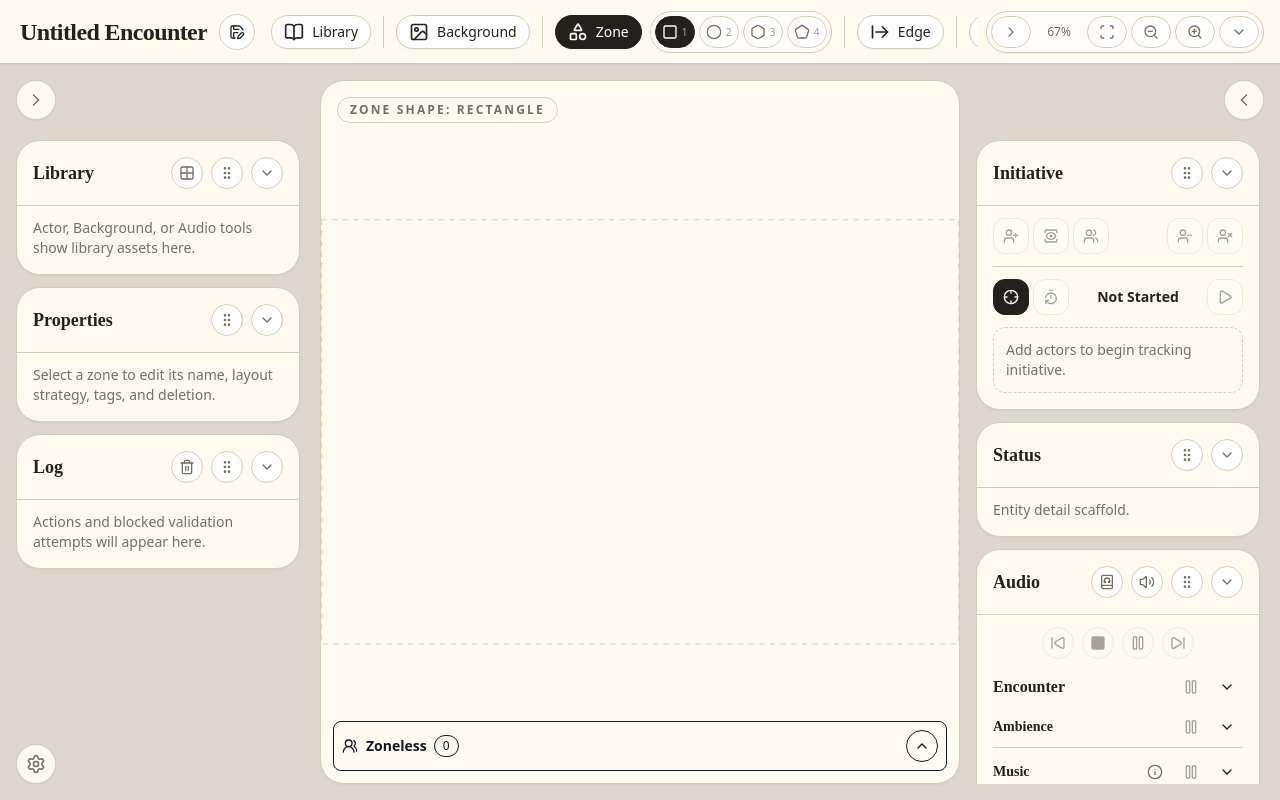
Test case: App › collapses and expands either sidebar independently
Click the button named "Collapse left sidebar". click: (36, 100)
box: left=16, top=80, right=56, bottom=120
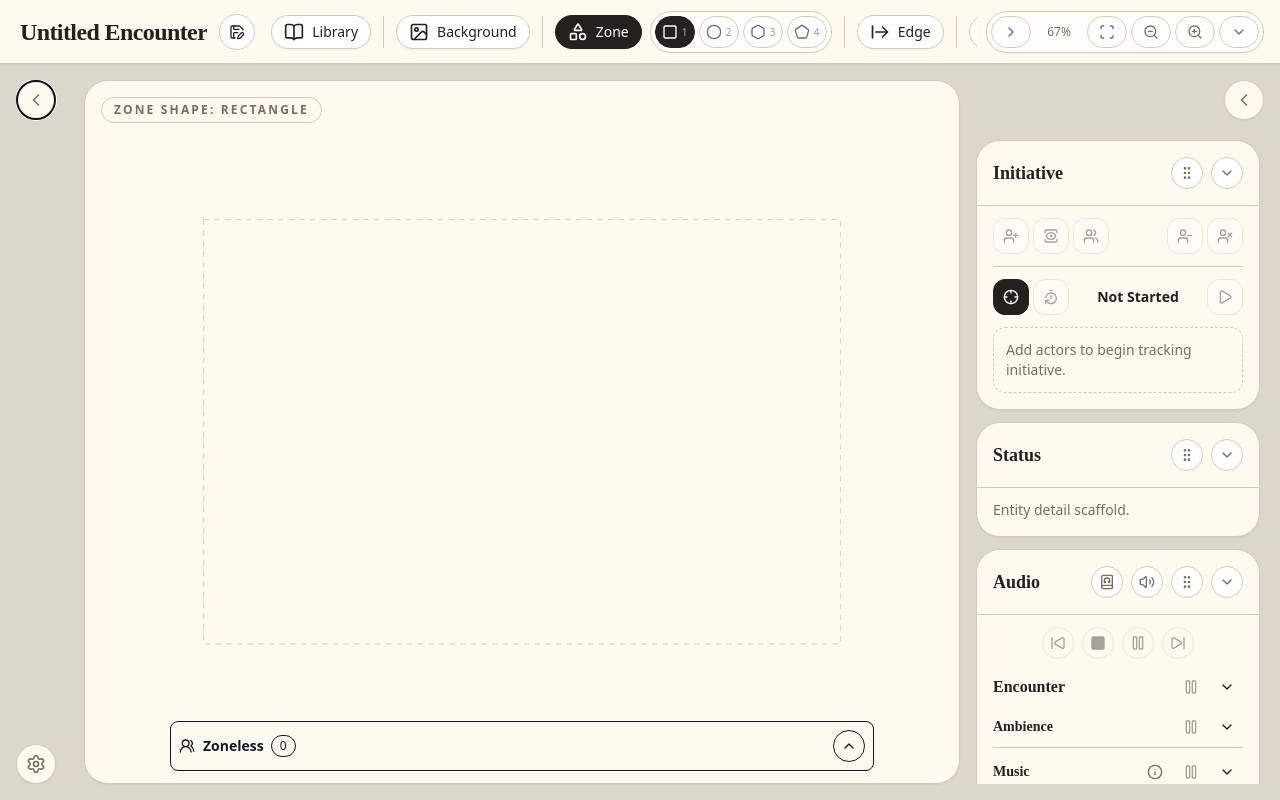
Expected: the button named "Expand left sidebar" is collapsed, left=16, top=80, right=56, bottom=120
Click the button named "Collapse right sidebar". click: (1244, 100)
box: left=1224, top=80, right=1264, bottom=120
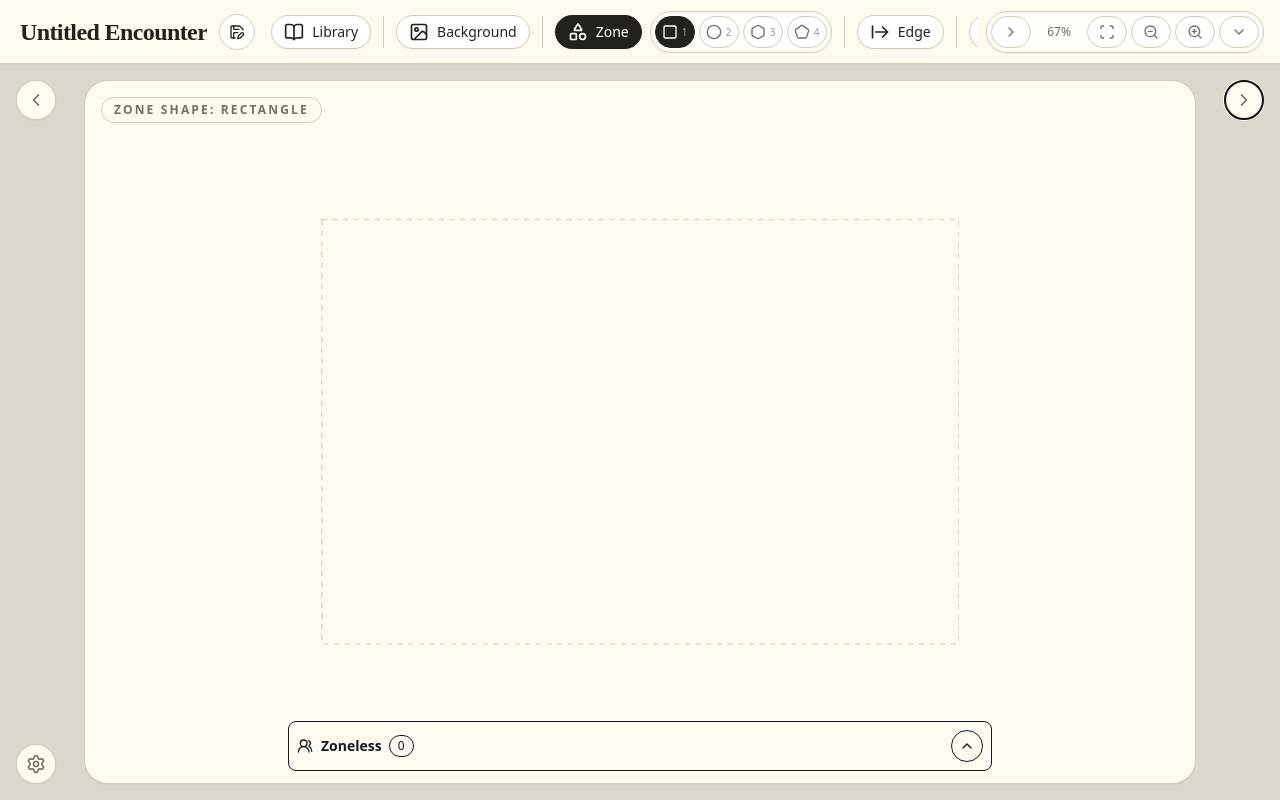
Expected: the button named "Expand right sidebar" is collapsed, left=1224, top=80, right=1264, bottom=120
Click the button named "Expand left sidebar". click: (36, 100)
box: left=16, top=80, right=56, bottom=120
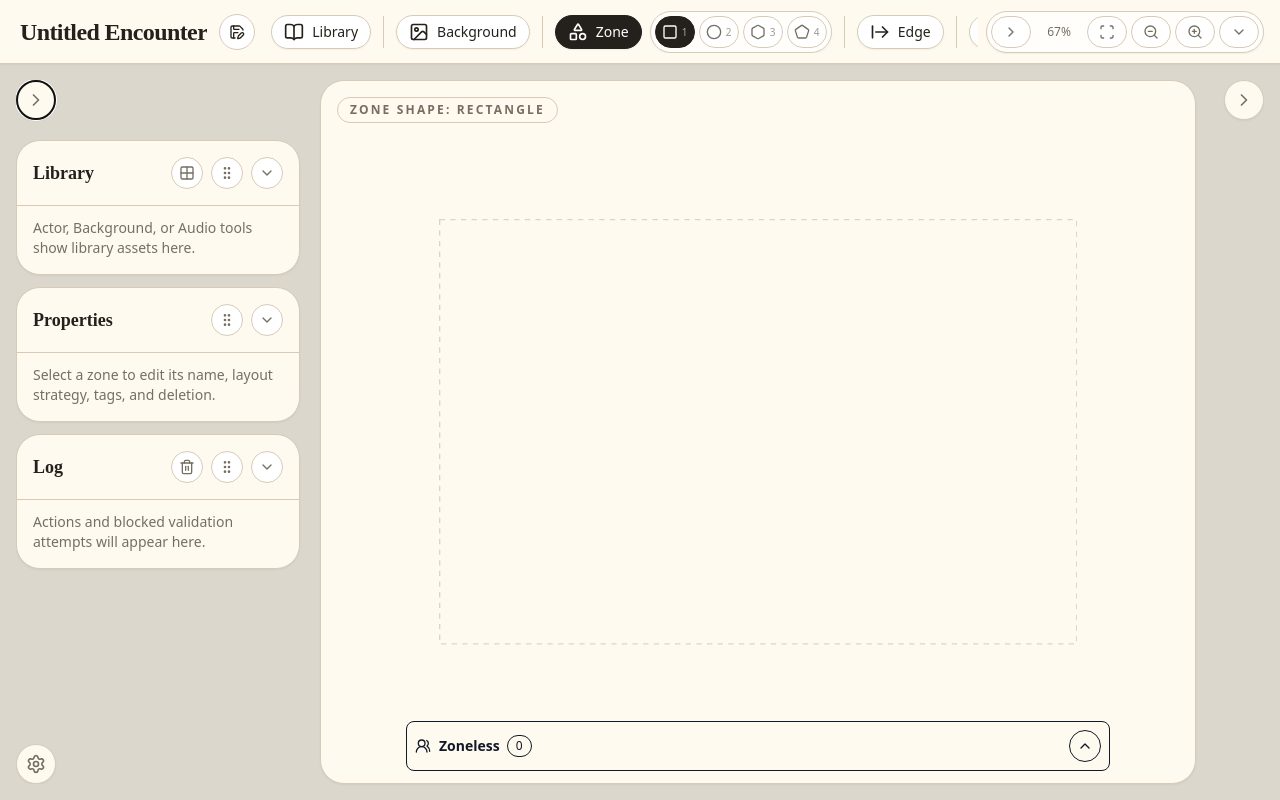
Click the button named "Expand right sidebar". click: (1244, 100)
box: left=1224, top=80, right=1264, bottom=120
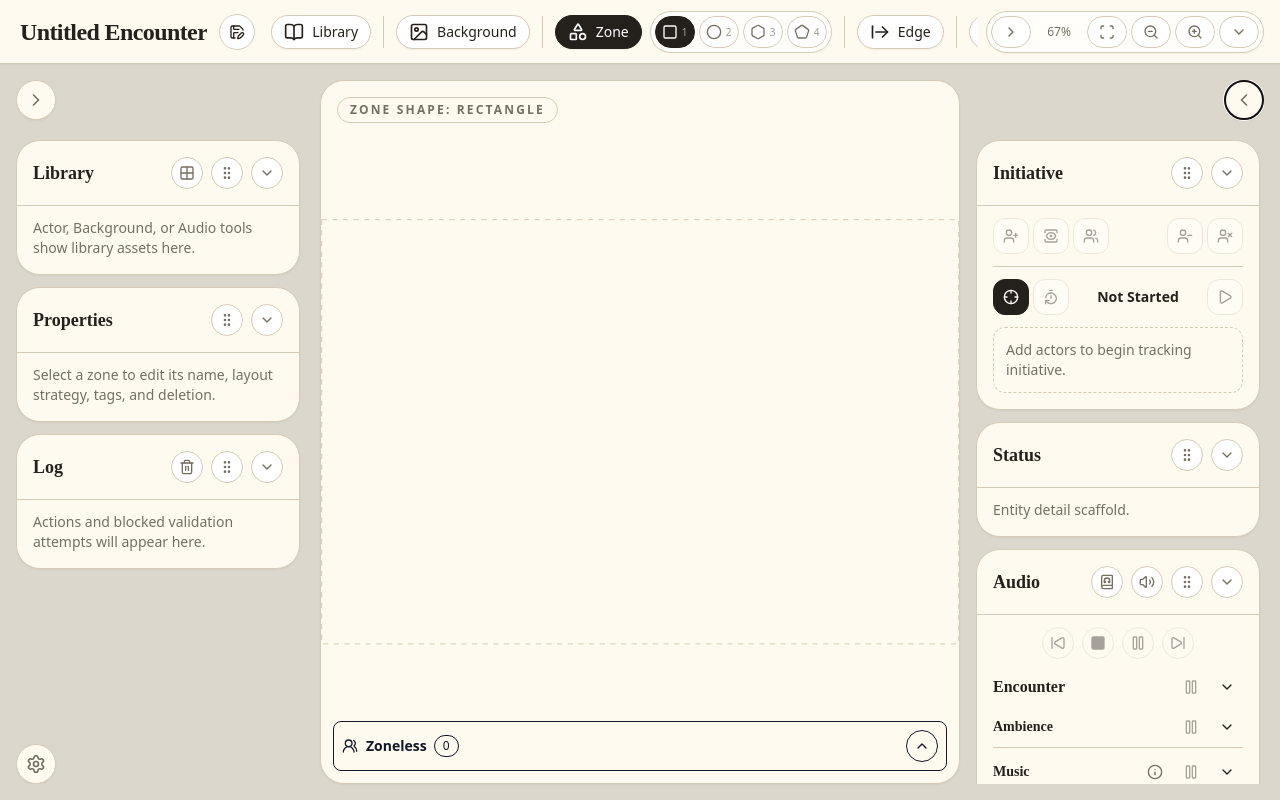
Expected: the element named "left docked panels" is shown, left=16, top=128, right=304, bottom=732
Expected: the element named "right docked panels" is shown, left=976, top=128, right=1264, bottom=784
